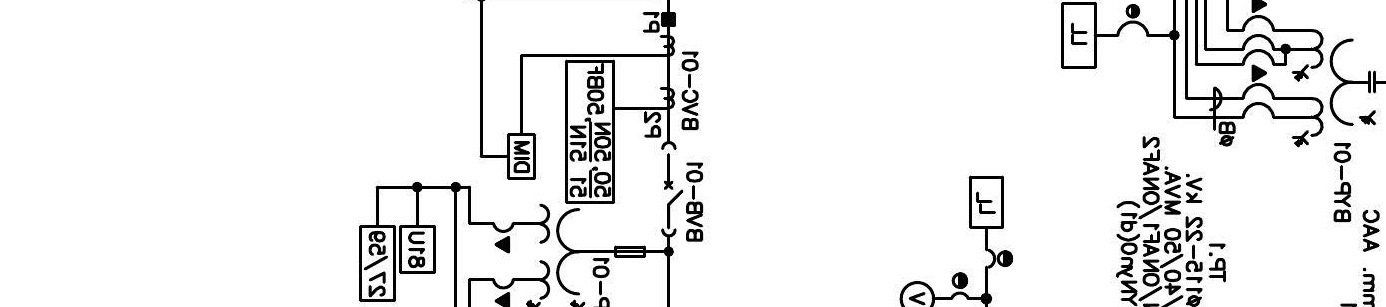115_cvt_3p: (1291, 28, 1376, 148)
22_breaker: (660, 141, 684, 238)
DIM: (507, 133, 536, 180)
LL: (1061, 2, 1097, 69), (968, 176, 1004, 229)
